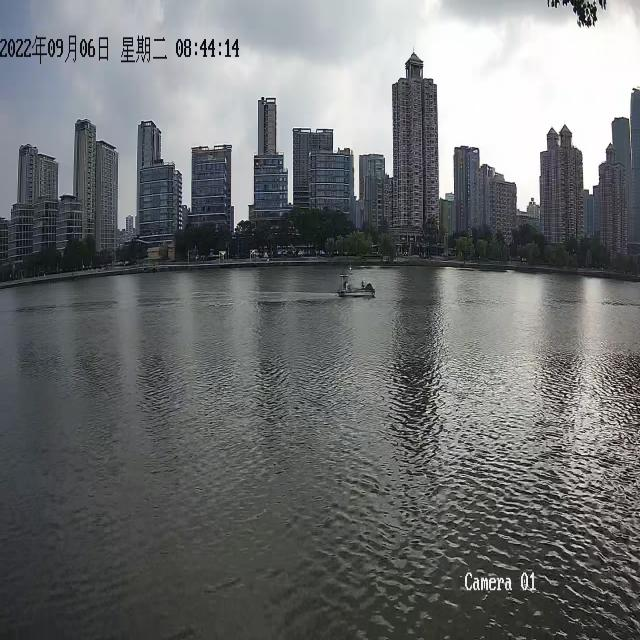ship: (338, 273, 376, 296)
